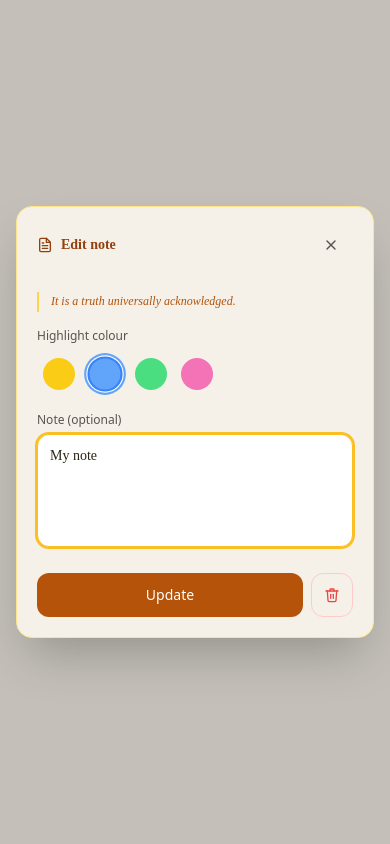
AnnotationToolbar — handleDelete error paths (line 106) › disables delete button while delete is in progress
Click the button named "delete".
click(332, 595)  # box [311,573,353,617]
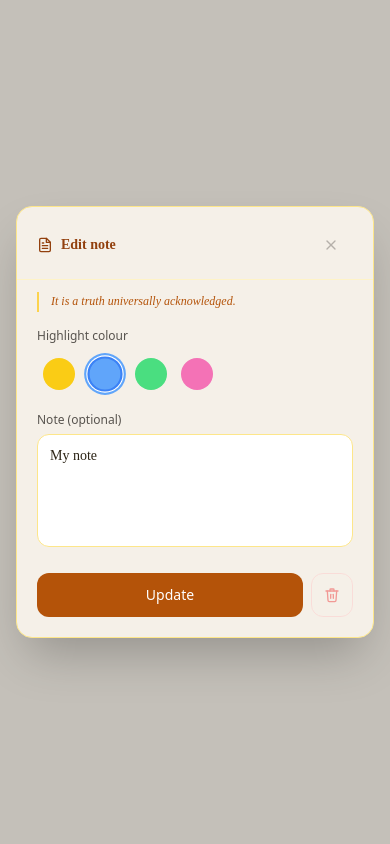
Expected: the button named "delete" is disabled, [311,573,353,617]
